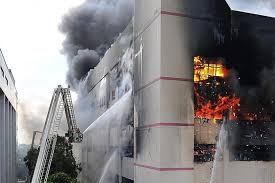smoke: (63, 1, 147, 177), (189, 1, 266, 50)
